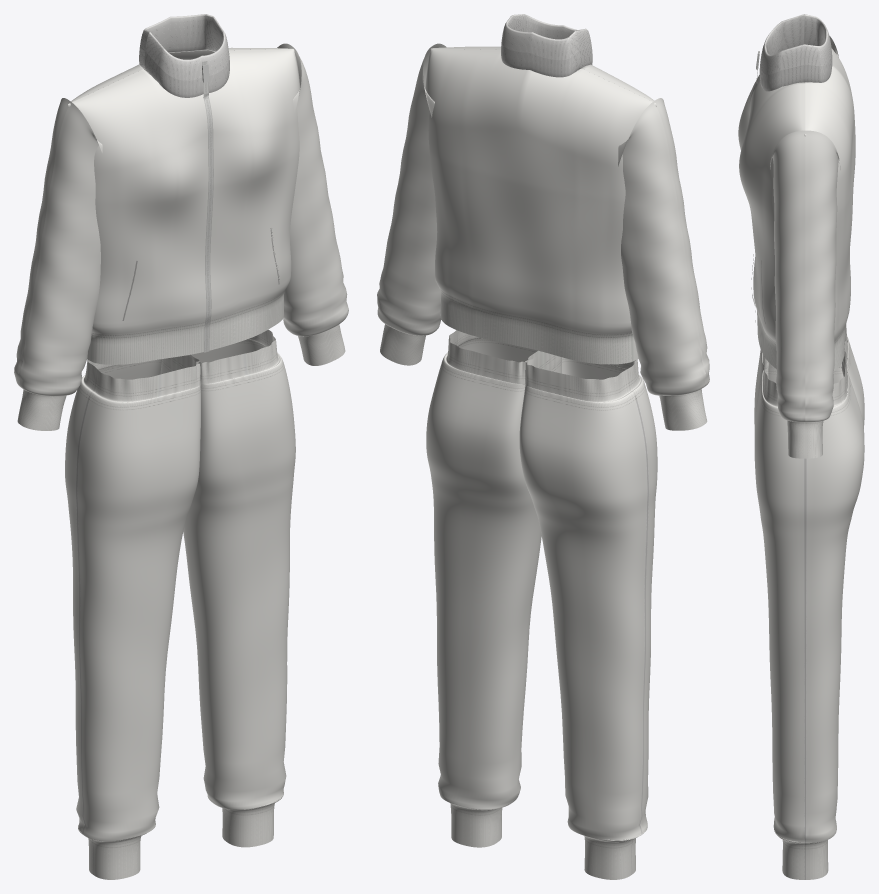
Rendered from ensemble-femme.glb.
3 views of the same model, side by side, from view 1: azimuth 30°, elevation 25°; view 2: azimuth 150°, elevation 25°; view 3: azimuth 270°, elevation 25° (orthographic). The views are drawn at different scales.
Parts seen in each view (by area): view 1: Veste_devant, Jambe_gauche, Jambe_droite, Manche_gauche, Manche_droite, Col_montant, Zip, Veste_dos; view 2: Veste_dos, Jambe_gauche, Jambe_droite, Manche_gauche, Manche_droite, Col_montant, Veste_devant; view 3: Jambe_droite, Manche_droite, Veste_devant, Veste_dos, Col_montant, Jambe_gauche.
Part boxes in pixels (<box>): Veste_devant: <box>68,49,299,364</box>; Jambe_gauche: <box>65,354,200,879</box>; Jambe_droite: <box>160,329,295,847</box>; Manche_gauche: <box>14,98,102,430</box>; Manche_droite: <box>277,43,348,365</box>; Col_montant: <box>139,14,229,97</box>; Zip: <box>202,61,213,352</box>; Veste_dos: <box>69,47,292,103</box>; Veste_dos: <box>425,48,656,364</box>; Jambe_gauche: <box>519,350,657,879</box>; Jambe_droite: <box>426,330,561,847</box>; Manche_gauche: <box>618,98,709,430</box>; Manche_droite: <box>377,43,446,365</box>; Col_montant: <box>501,14,592,77</box>; Veste_devant: <box>433,46,656,106</box>; Jambe_droite: <box>754,348,864,879</box>; Manche_droite: <box>770,130,840,458</box>; Veste_devant: <box>738,75,805,368</box>; Veste_dos: <box>805,48,855,371</box>; Col_montant: <box>759,14,832,91</box>; Jambe_gauche: <box>754,324,864,431</box>.
Bounding box in the file's own units: 0.6729 × 1.64 × 0.2326.
Materials: 7 (6 with a texture image).
